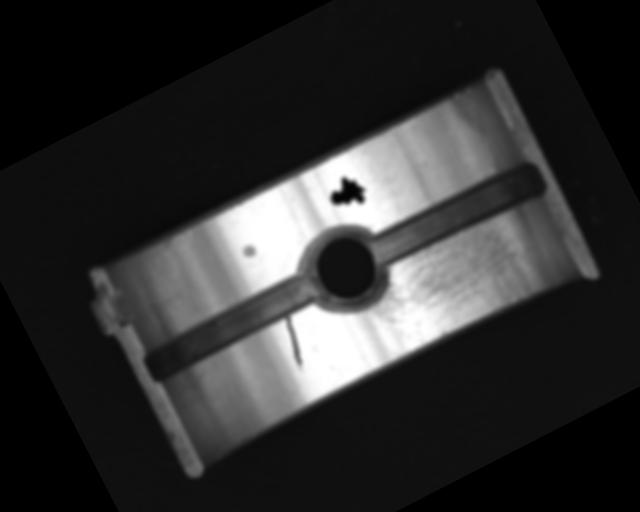blot: (322, 169, 371, 216)
bruise: (239, 241, 259, 261)
gap: (137, 265, 327, 389), (364, 154, 549, 276)
hole: (290, 212, 401, 326)
nick: (273, 314, 316, 374)
scratch: (354, 203, 551, 365)
